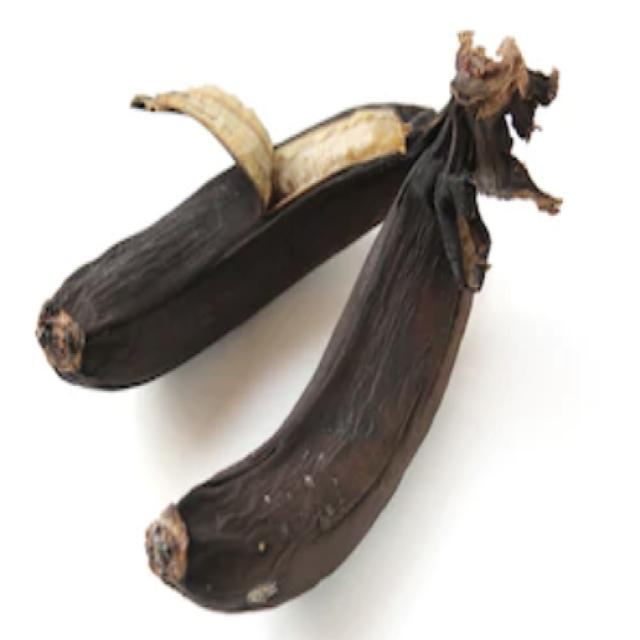banana: (147, 33, 559, 610), (38, 88, 435, 389)
